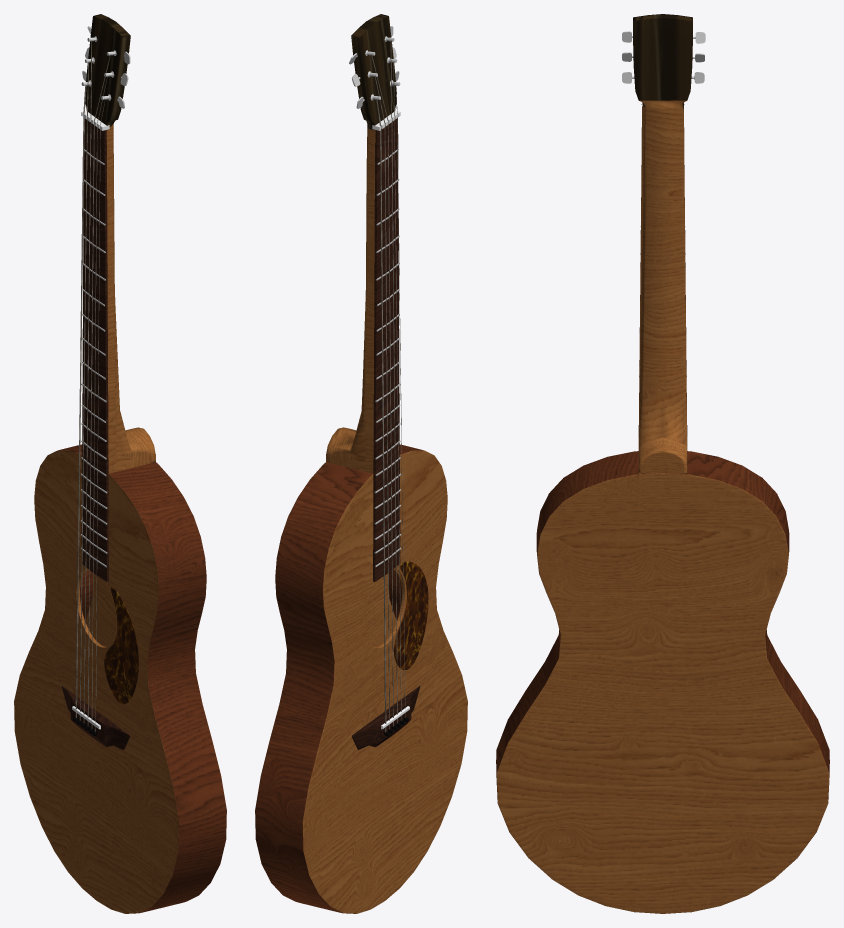
File: result.gltf
3 views of the same model, side by side, from view 1: azimuth 30°, elevation 25°; view 2: azimuth 150°, elevation 25°; view 3: azimuth 270°, elevation 25° (orthographic).
Visible parts, largest first — view 1: pCylinder1, pCube4, pCube27, pCylinder14, pCube1, pCylinder2, pCube25, pCylinder9, pCylinder10, pCylinder11, pCylinder12, pCylinder13; view 2: pCylinder1, pCube4, pCube27, pCylinder14, pCube1, pCylinder2, pCube25, pCylinder9, pCylinder11, pCylinder10, pCylinder12, pCylinder13; view 3: pCylinder1, pCube27.
Part boxes in pixels (<box>): pCylinder1: <box>14,444,226,913</box>; pCube4: <box>81,118,108,581</box>; pCube27: <box>85,14,155,473</box>; pCylinder14: <box>104,586,138,704</box>; pCube1: <box>61,686,130,749</box>; pCylinder2: <box>75,85,86,717</box>; pCube25: <box>80,149,107,567</box>; pCylinder9: <box>79,62,88,720</box>; pCylinder10: <box>83,41,91,722</box>; pCylinder11: <box>87,55,110,725</box>; pCylinder12: <box>91,77,107,728</box>; pCylinder13: <box>95,100,105,731</box>; pCylinder1: <box>255,444,467,913</box>; pCube4: <box>373,117,400,581</box>; pCube27: <box>326,14,396,473</box>; pCylinder14: <box>393,561,428,669</box>; pCube1: <box>351,686,420,749</box>; pCylinder2: <box>376,99,386,732</box>; pCube25: <box>374,148,401,567</box>; pCylinder9: <box>375,76,389,729</box>; pCylinder11: <box>390,41,397,723</box>; pCylinder10: <box>371,55,393,726</box>; pCylinder12: <box>393,62,401,720</box>; pCylinder13: <box>396,86,405,717</box>; pCylinder1: <box>496,451,829,913</box>; pCube27: <box>633,14,692,474</box>.
Size of the model in its own units: 3.4 by 46.23 by 15.85.
1 material, 1 textured.
